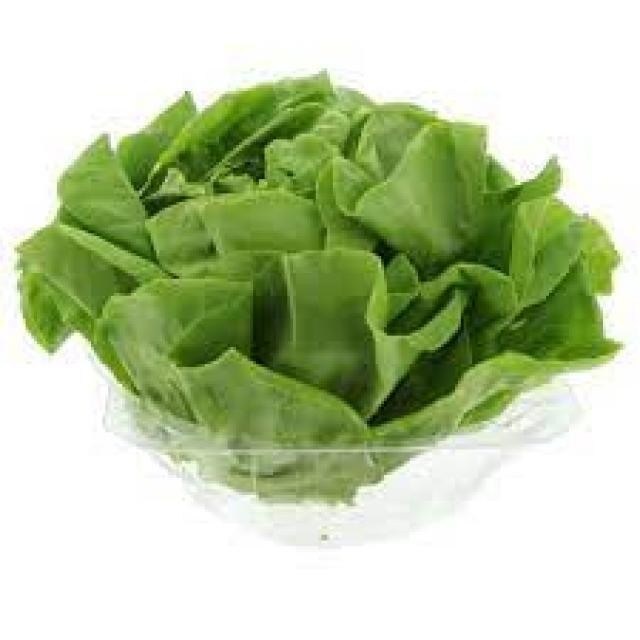Lettuce: (20, 65, 615, 503)
